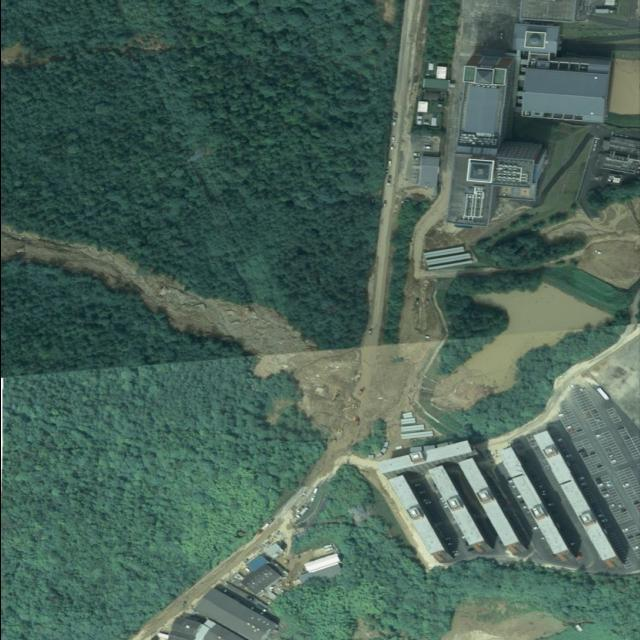landslide: (0, 227, 313, 355), (0, 226, 312, 354), (252, 349, 352, 378), (0, 42, 48, 66)
